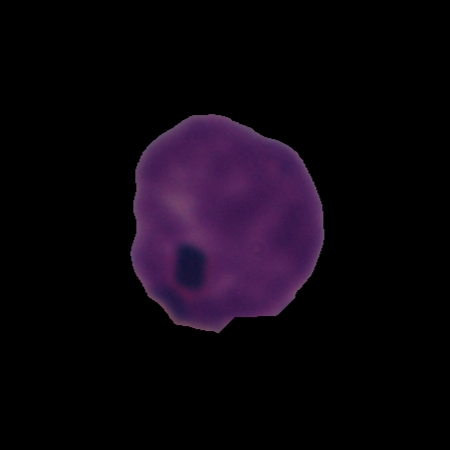HEM: (126, 110, 330, 336)
